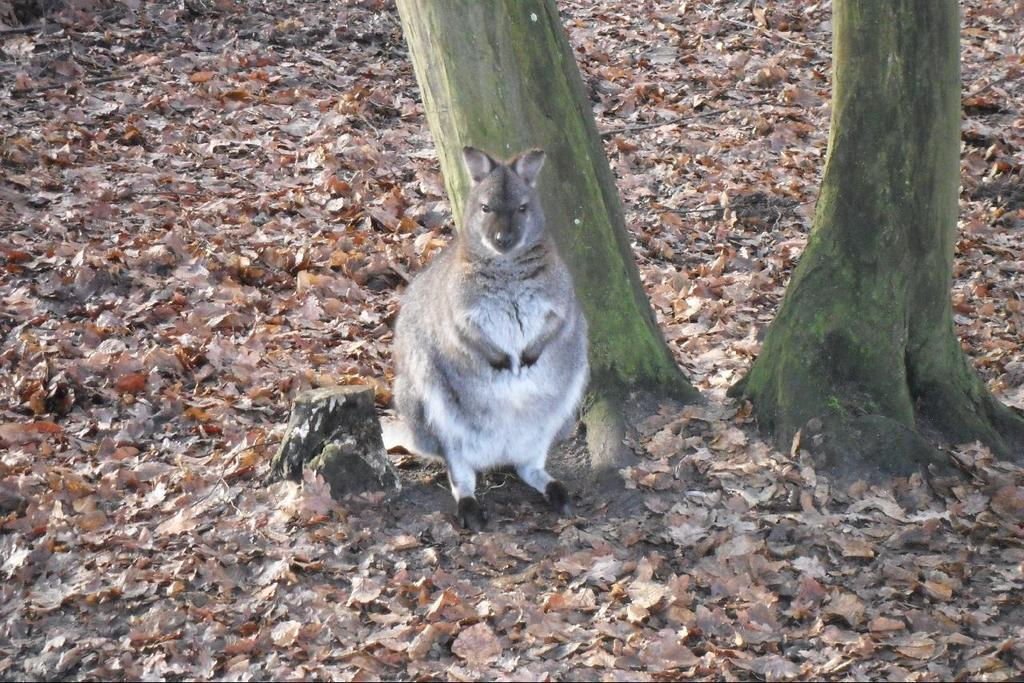kangaroo: (384, 131, 608, 505)
